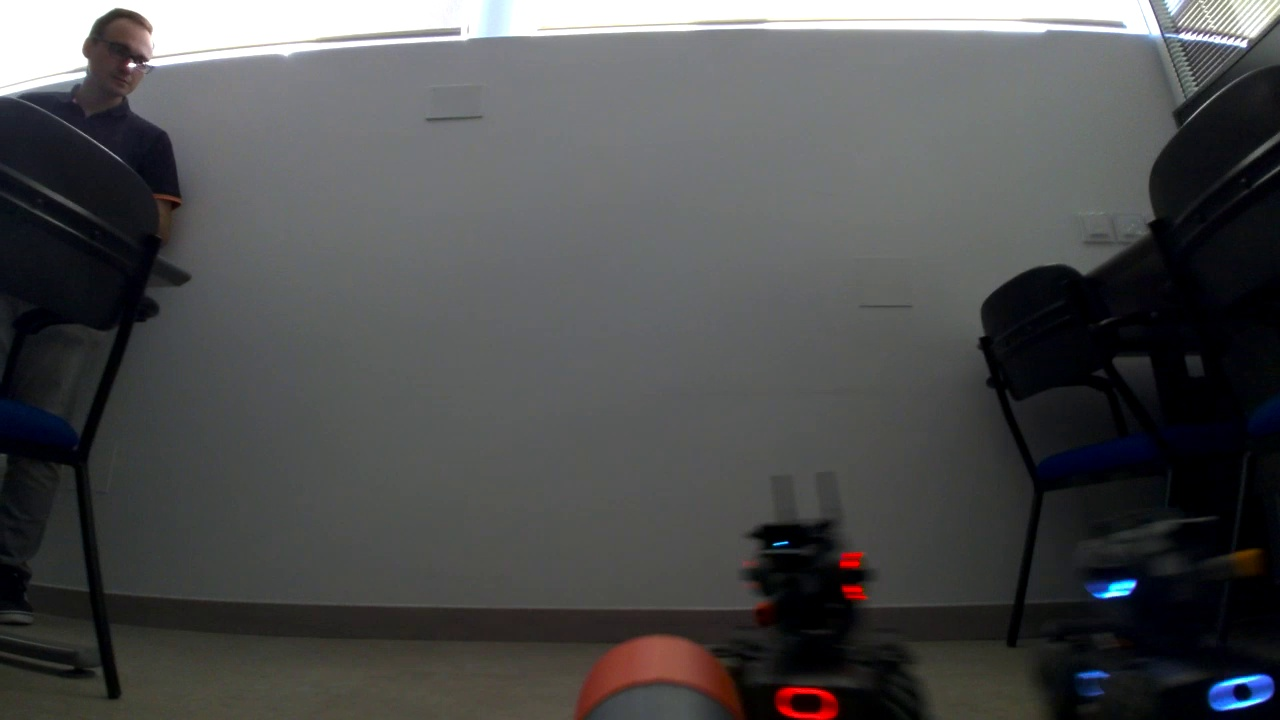robot: (705, 474, 926, 720), (1026, 509, 1211, 720)
